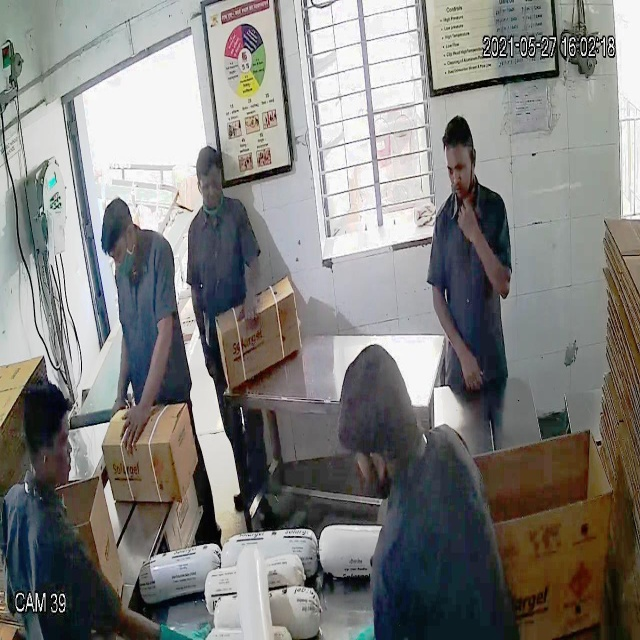Sin_gafas: (442, 150, 478, 183)
